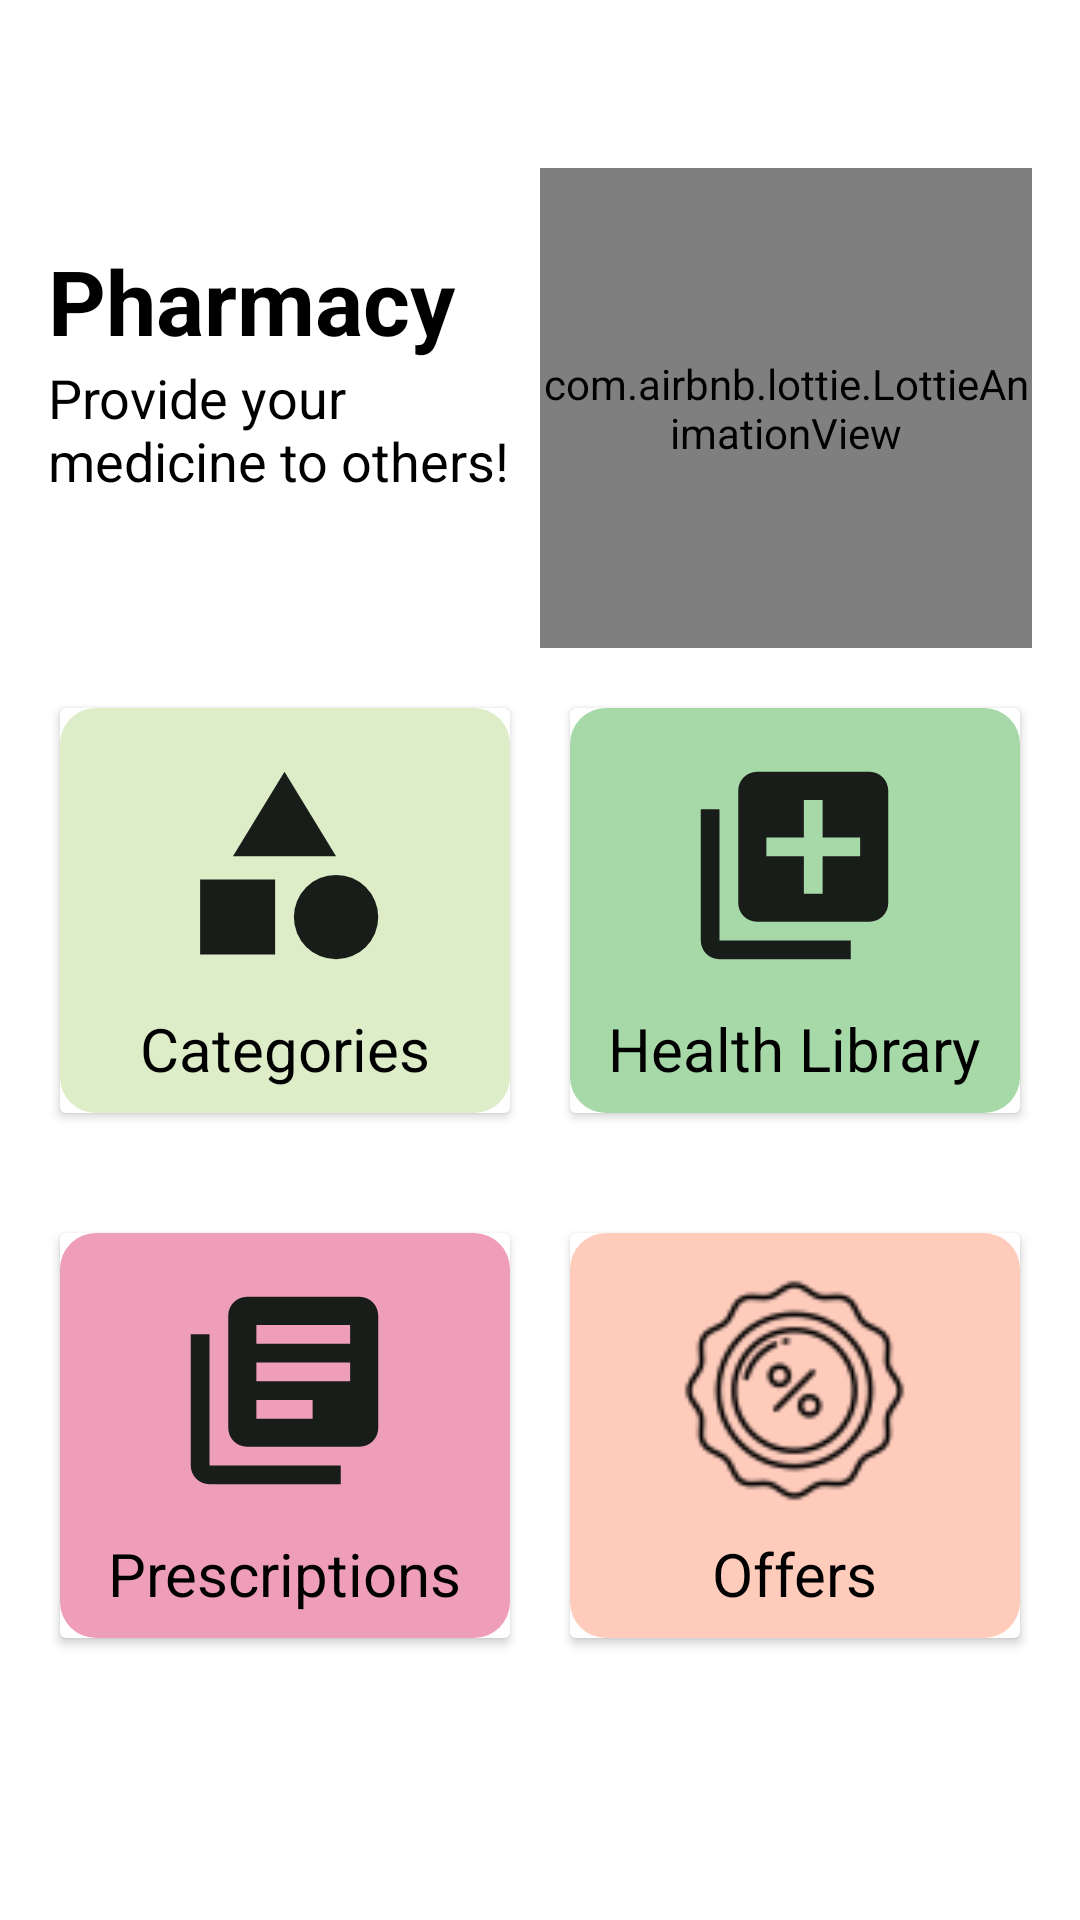

Icons on this 1080 x 1920 Android screen, each with the point to tap as (x=x, y=y):
category: (x=289, y=866)
library add: (x=794, y=865)
library books: (x=284, y=1390)
